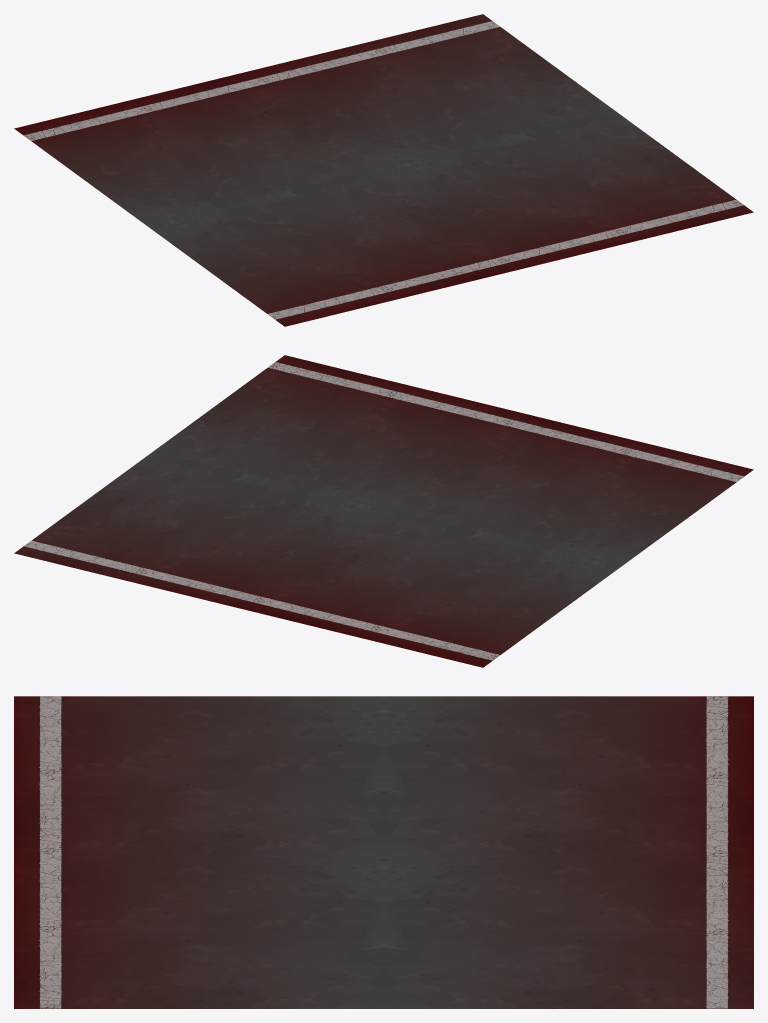
File: Street_2Lane_noSidewalk.gltf
3 renders of one model, top to bottom at view 1: azimuth 30°, elevation 25°; view 2: azimuth 150°, elevation 25°; view 3: azimuth 270°, elevation 25°, orthographic. The views are drawn at different scales.
Parts seen in each view (by area): view 1: Street_2Lane_noSidewalk; view 2: Street_2Lane_noSidewalk; view 3: Street_2Lane_noSidewalk.
Part boxes in pixels (<box>): Street_2Lane_noSidewalk: <box>14,14,753,326</box>; Street_2Lane_noSidewalk: <box>14,355,753,667</box>; Street_2Lane_noSidewalk: <box>14,696,753,1008</box>.
Bounding box in the file's own units: 6 × 0.002 × 6.
Materials: 2 (2 with a texture image).
